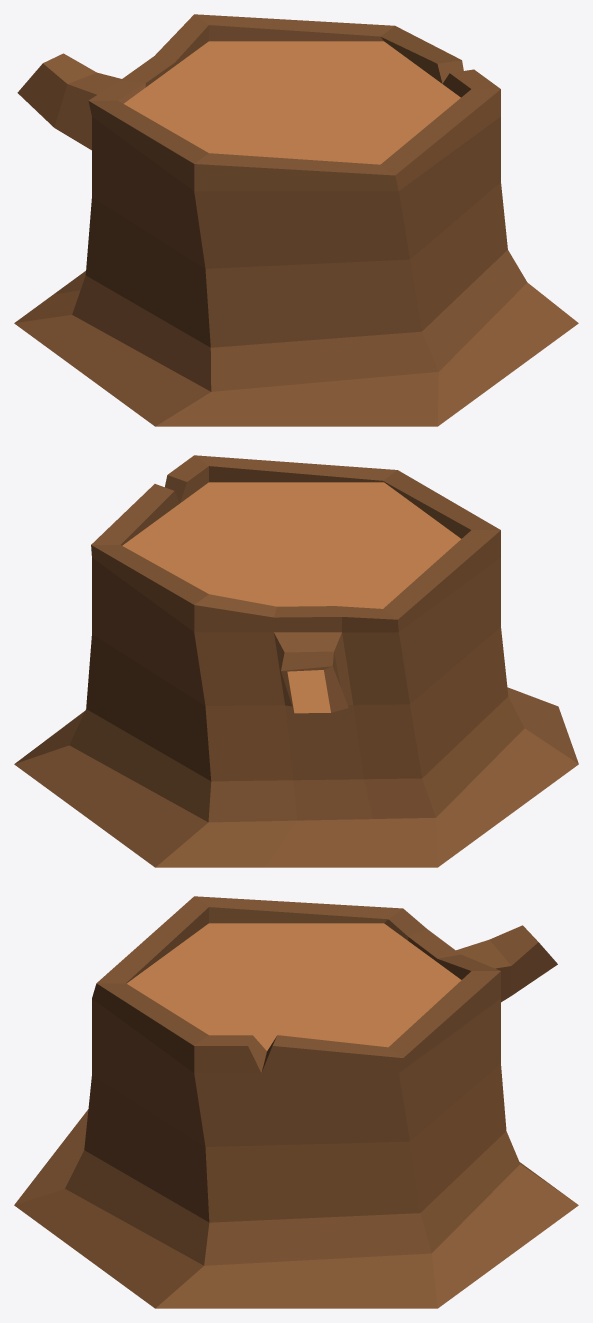
Rendered from trunk.fbx.
The picture shows the model from 3 angles, top to bottom: view 1: azimuth 30°, elevation 25°; view 2: azimuth 150°, elevation 25°; view 3: azimuth 270°, elevation 25°; orthographic projection.
Parts seen in each view (by area): view 1: Cylinder.004; view 2: Cylinder.004; view 3: Cylinder.004.
Part boxes in pixels (bbox=[...]): Cylinder.004: bbox=[14, 14, 578, 426]; Cylinder.004: bbox=[14, 455, 578, 867]; Cylinder.004: bbox=[14, 896, 578, 1308].
Bounding box in the file's own units: 79.08 × 41.8 × 91.32.
